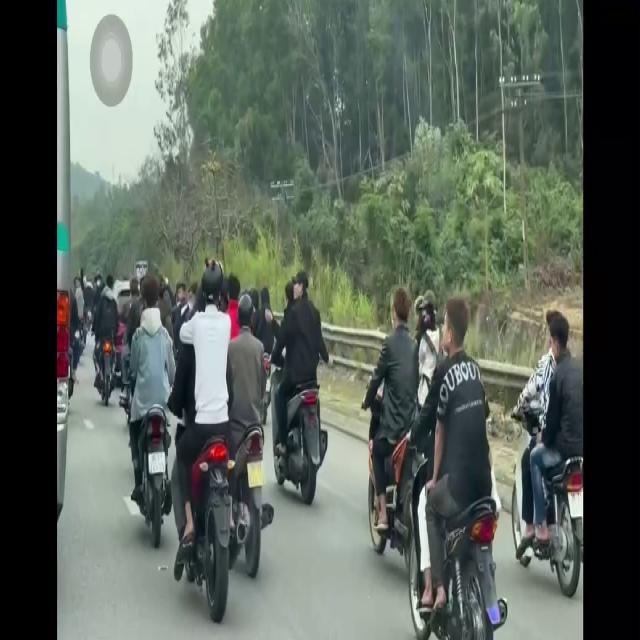helmet: (201, 256, 223, 327), (236, 288, 255, 343)
no_helmet: (442, 292, 467, 369), (393, 287, 410, 343), (550, 312, 568, 360)
